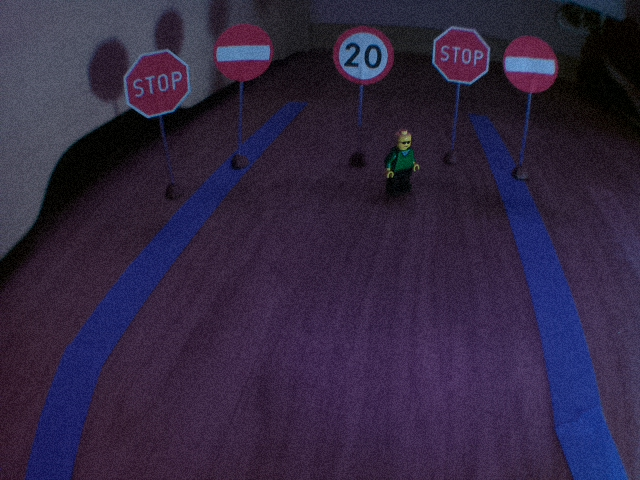LEGO_person: (383, 127, 422, 201)
ogr_20: (330, 23, 396, 87)
stop: (121, 48, 191, 120), (430, 23, 493, 88)
zakaz: (212, 23, 274, 83), (501, 32, 559, 95)
